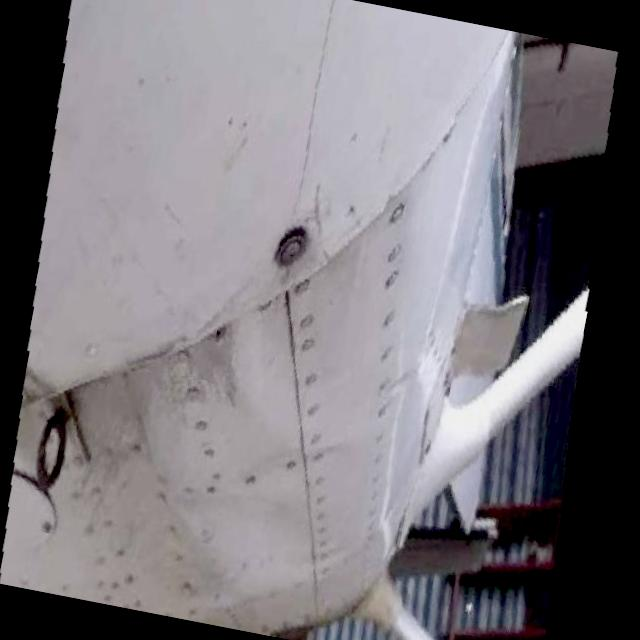dent: (211, 248, 348, 455), (158, 464, 310, 605)
